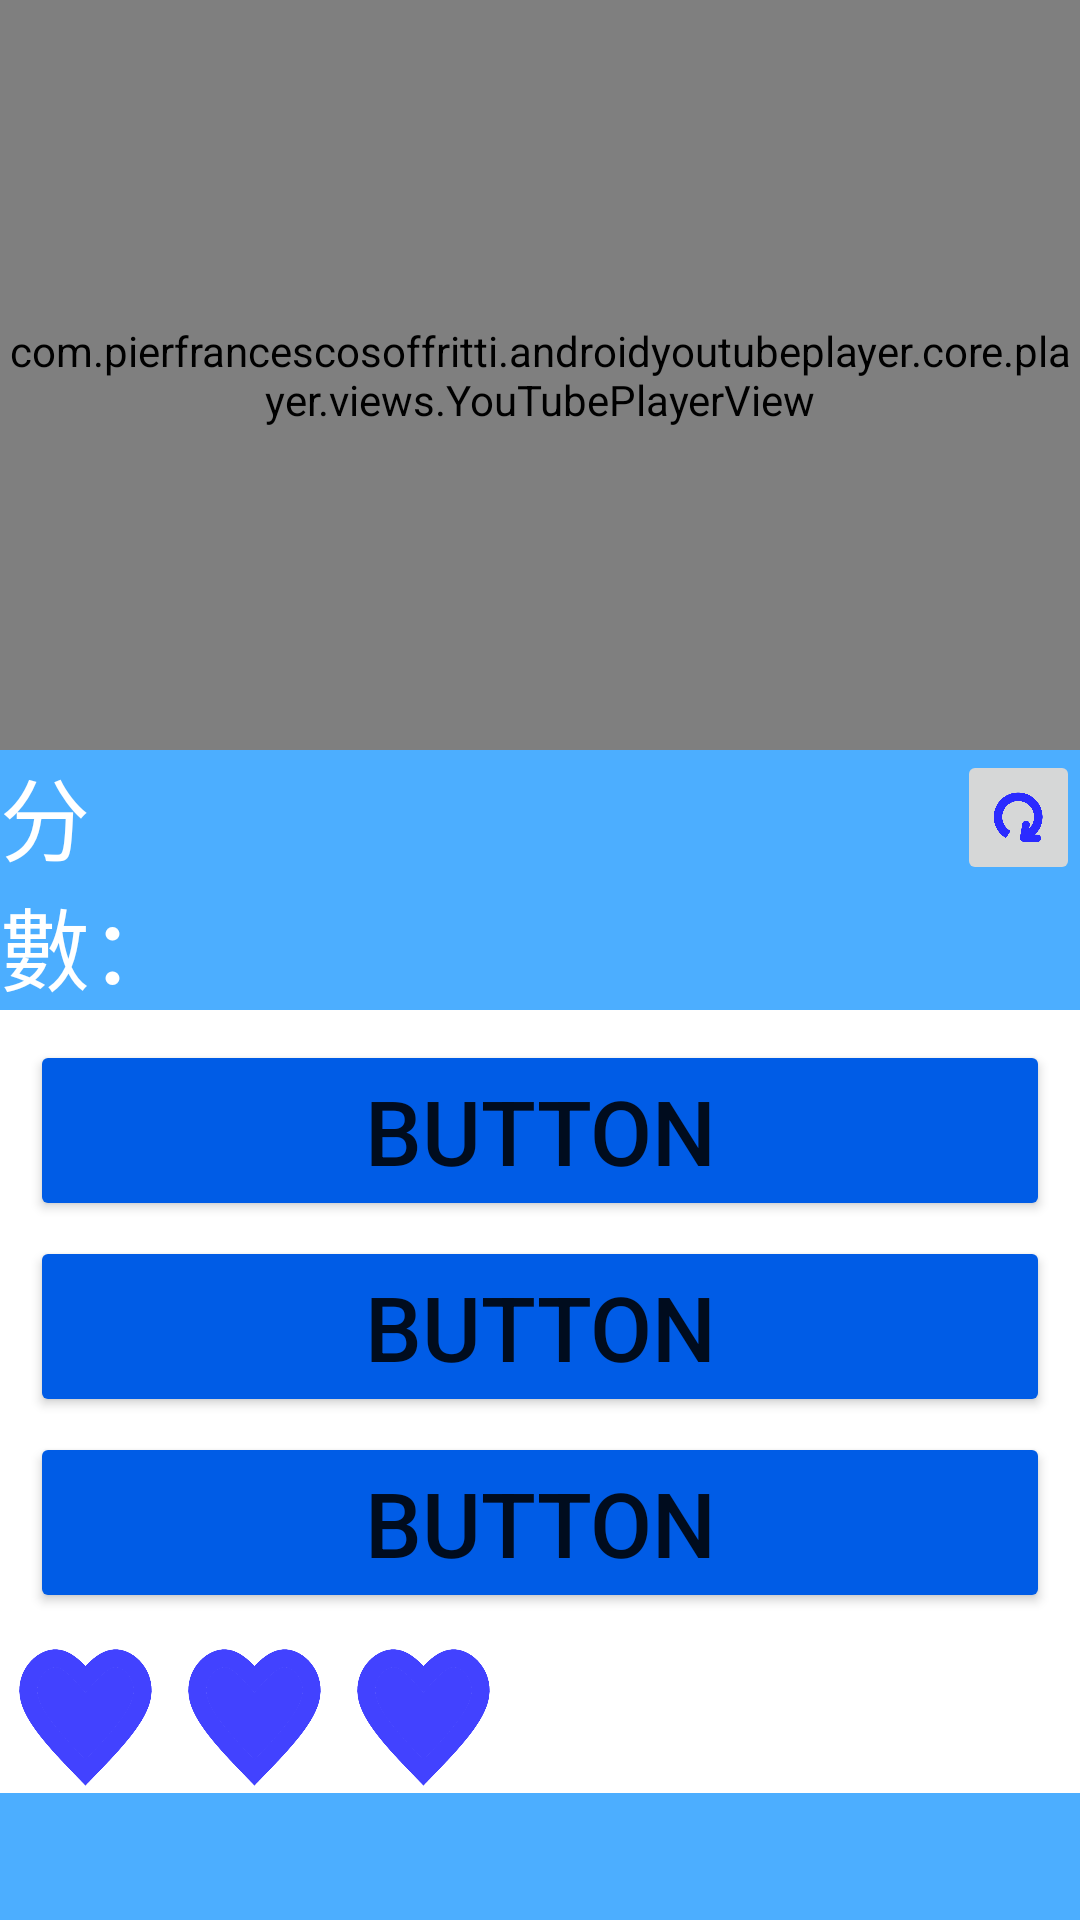

Icon bounding boxes for this 1080px×1920px phone screenshot, format (x1, y1, x2, y2):
heart: (19, 1649, 152, 1786), (188, 1649, 321, 1786), (357, 1649, 490, 1786)
